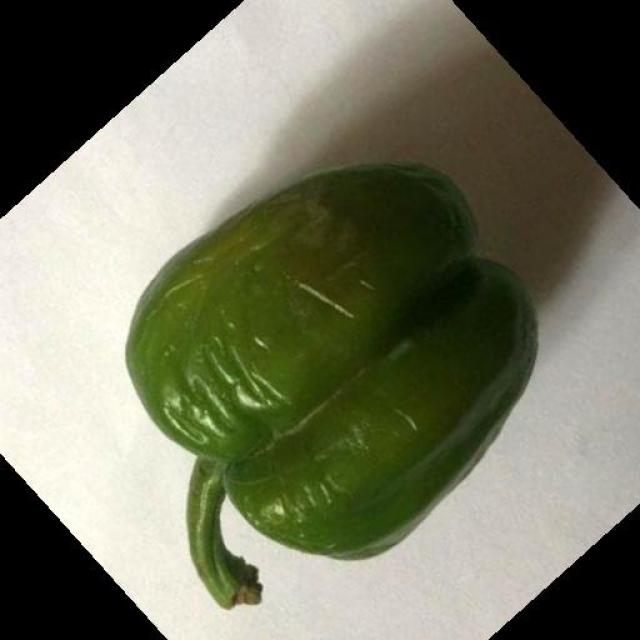Stale_Capsicum: (130, 128, 600, 582)
